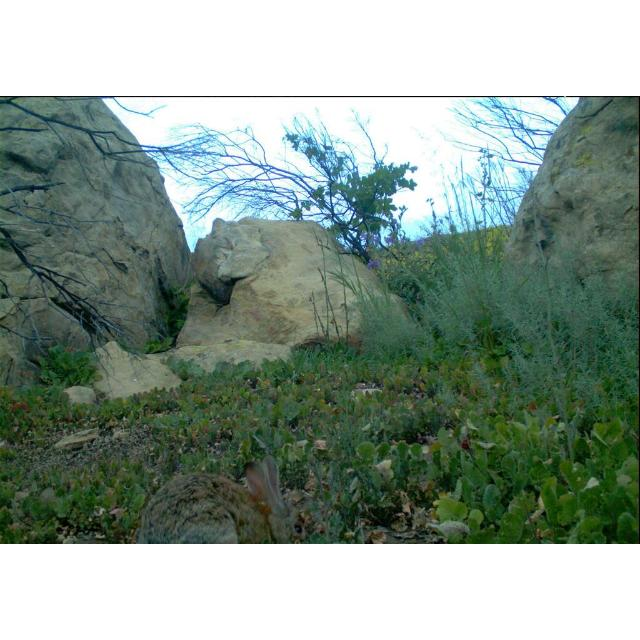animals: (135, 455, 313, 545)
